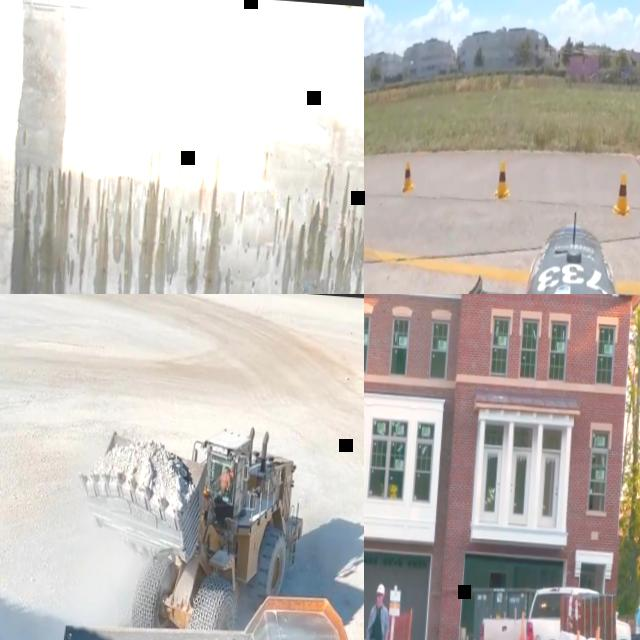Hardhat: (377, 582, 384, 593), (638, 594, 640, 603)
NO-Hardhat: (222, 463, 230, 471)
NO-Mask: (376, 595, 384, 603)
NO-Safety Vest: (368, 603, 388, 640), (220, 474, 228, 489), (635, 605, 640, 627)
Person: (364, 579, 390, 640), (213, 461, 231, 491), (634, 595, 640, 633)
Safety Cone: (610, 173, 634, 219), (492, 155, 513, 203), (398, 157, 416, 195)
vehicle: (70, 410, 310, 637), (379, 191, 640, 294), (478, 577, 635, 640)
